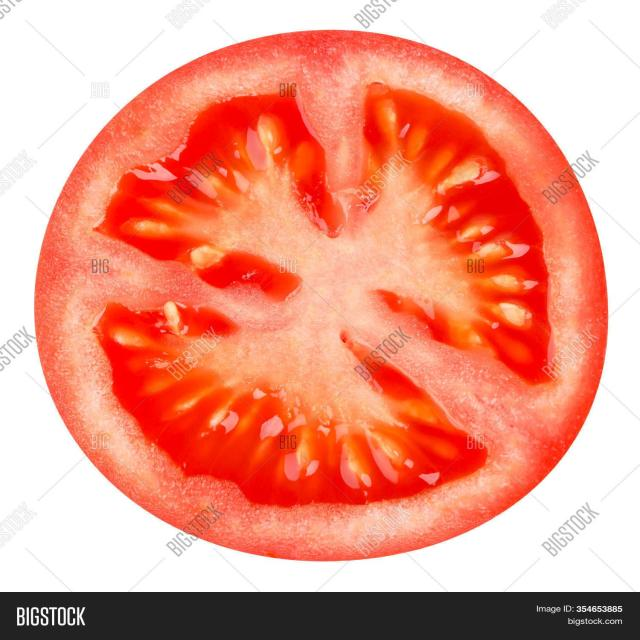Tomato: (31, 27, 626, 562)
